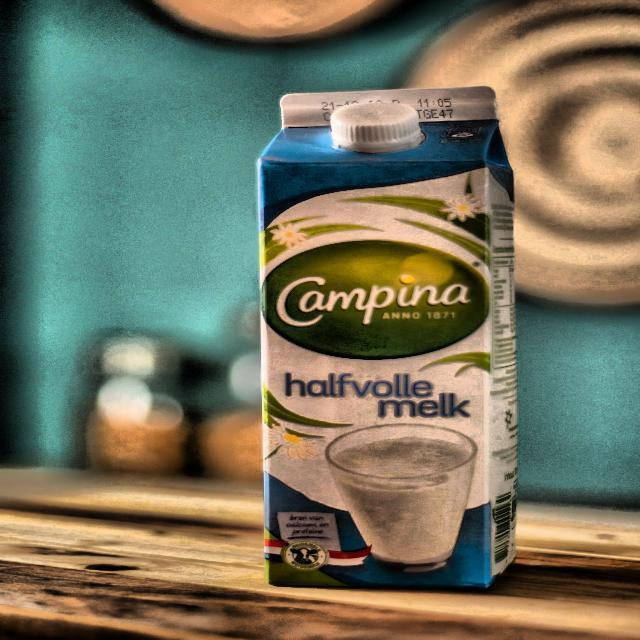cardboard: (256, 85, 520, 590)
